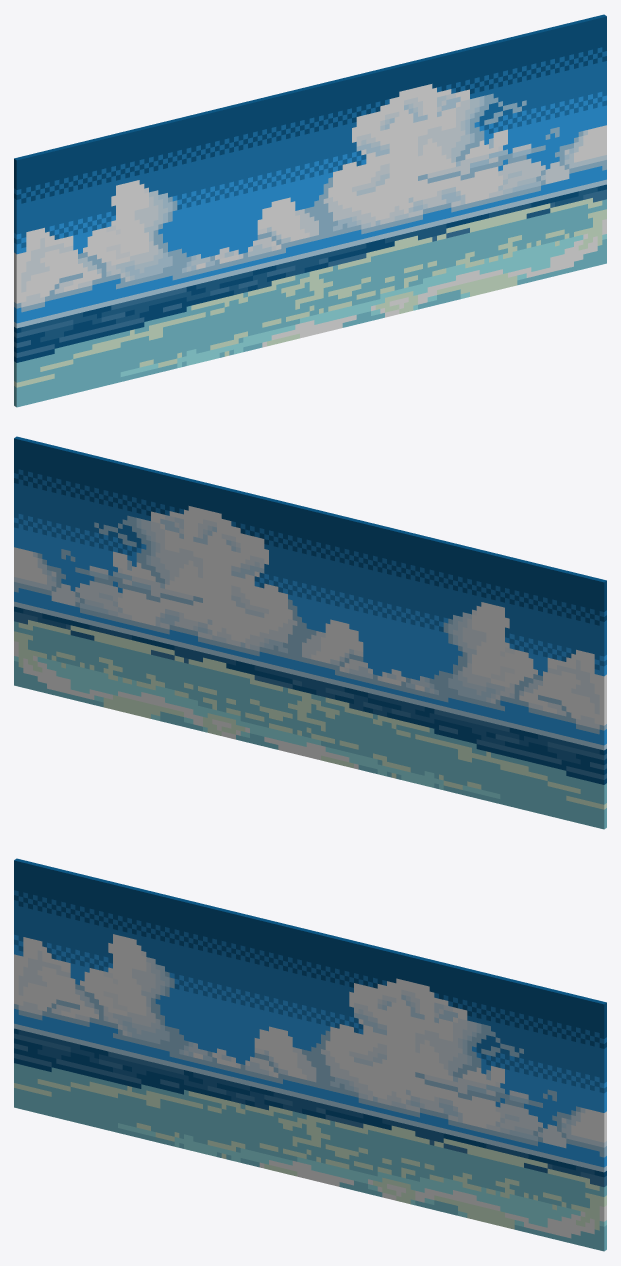
File: haikei2_1.fbx
The picture shows the model from 3 angles, top to bottom: view 1: azimuth 30°, elevation 25°; view 2: azimuth 150°, elevation 25°; view 3: azimuth 330°, elevation 25°; orthographic projection.
Parts seen in each view (by area): view 1: ObjObject.001; view 2: ObjObject.001; view 3: ObjObject.001.
Boxes of the visible parts, x1,y1,x2,y2 form: ObjObject.001: [14, 14, 606, 407]; ObjObject.001: [14, 436, 606, 829]; ObjObject.001: [14, 858, 606, 1251].
Size of the model in its own units: 1250 by 500 by 10.
Materials: 1 (1 with a texture image).
